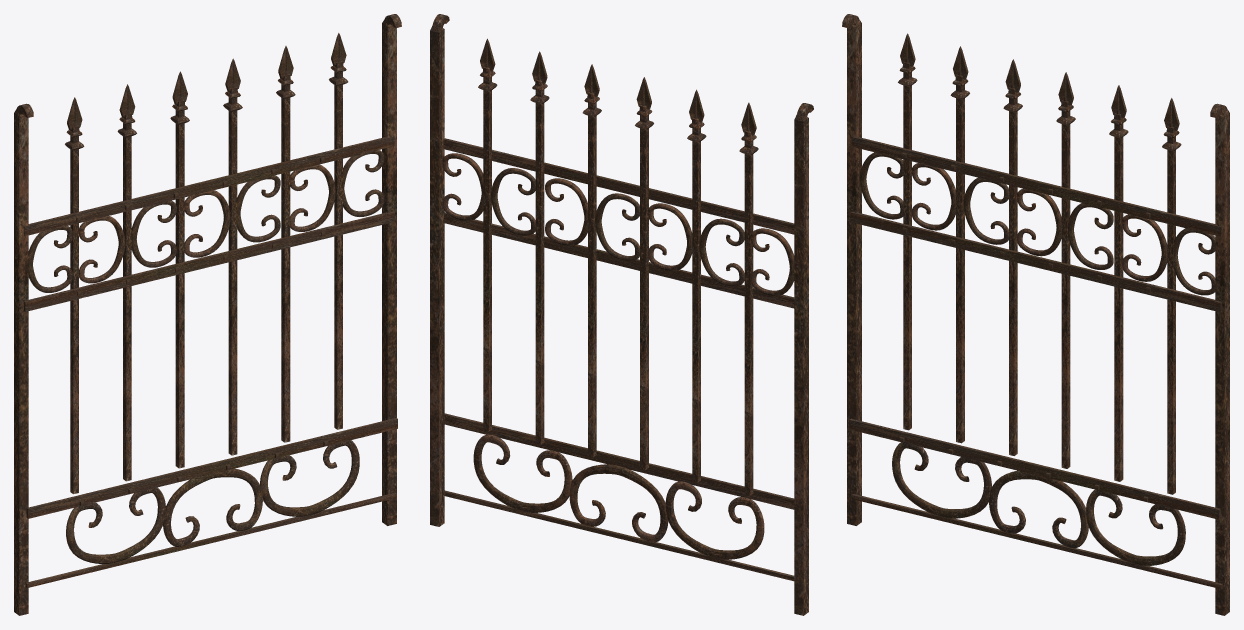
Rendered from portao2m.fbx.
The picture shows the model from 3 angles, left to right: view 1: azimuth 30°, elevation 25°; view 2: azimuth 150°, elevation 25°; view 3: azimuth 330°, elevation 25°; orthographic projection.
Parts seen in each view (by area): view 1: Cube.014, Cube.021, Cube.016, Cube.017, Cube.015, Cube.026, Cube.020, Cube.019, Cube.018, Cube.027, Cube.022; view 2: Cube.014, Cube.021, Cube.026, Cube.020, Cube.017, Cube.015, Cube.019, Cube.016, Cube.027, Cube.018, Cube.022; view 3: Cube.014, Cube.021, Cube.016, Cube.017, Cube.015, Cube.026, Cube.020, Cube.019, Cube.018, Cube.027, Cube.022.
Part boxes in pixels (x1,y1,x2,y2): Cube.014: [65, 61, 348, 494]; Cube.021: [14, 14, 401, 615]; Cube.016: [24, 211, 394, 311]; Cube.017: [26, 418, 397, 518]; Cube.015: [24, 136, 394, 236]; Cube.026: [66, 440, 359, 563]; Cube.020: [28, 150, 384, 292]; Cube.019: [79, 164, 335, 283]; Cube.018: [25, 492, 396, 587]; Cube.027: [163, 468, 262, 546]; Cube.022: [67, 33, 346, 130]; Cube.014: [478, 67, 758, 495]; Cube.021: [430, 14, 813, 615]; Cube.026: [473, 434, 764, 559]; Cube.020: [442, 153, 794, 296]; Cube.017: [444, 413, 794, 509]; Cube.015: [443, 138, 794, 234]; Cube.019: [491, 168, 744, 286]; Cube.016: [444, 212, 794, 308]; Cube.027: [569, 464, 668, 542]; Cube.018: [444, 490, 794, 581]; Cube.022: [480, 38, 756, 135]; Cube.014: [898, 62, 1181, 494]; Cube.021: [842, 14, 1229, 615]; Cube.016: [850, 212, 1221, 312]; Cube.017: [849, 418, 1220, 519]; Cube.015: [851, 136, 1221, 236]; Cube.026: [892, 442, 1185, 565]; Cube.020: [859, 152, 1215, 295]; Cube.019: [911, 163, 1167, 281]; Cube.018: [851, 494, 1222, 589]; Cube.027: [989, 470, 1088, 548]; Cube.022: [900, 33, 1179, 130].
Bounding box in the file's own units: 202 × 261 × 12.01.
